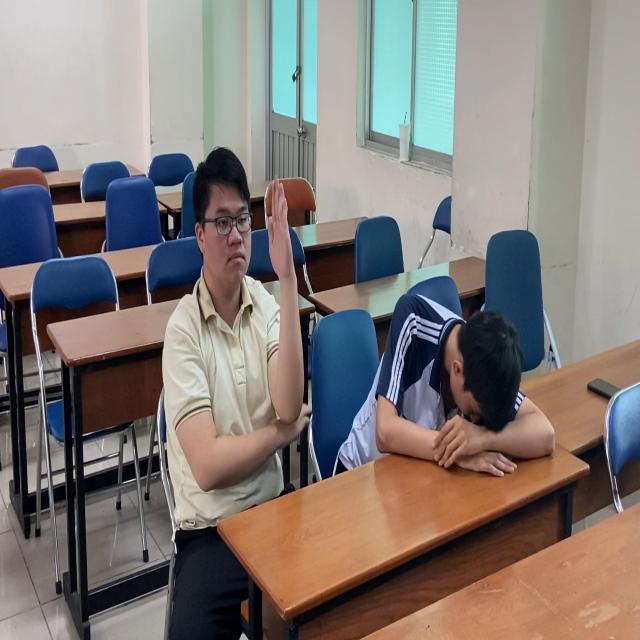raise_hand: (161, 144, 309, 528)
sleep: (359, 278, 559, 491)
